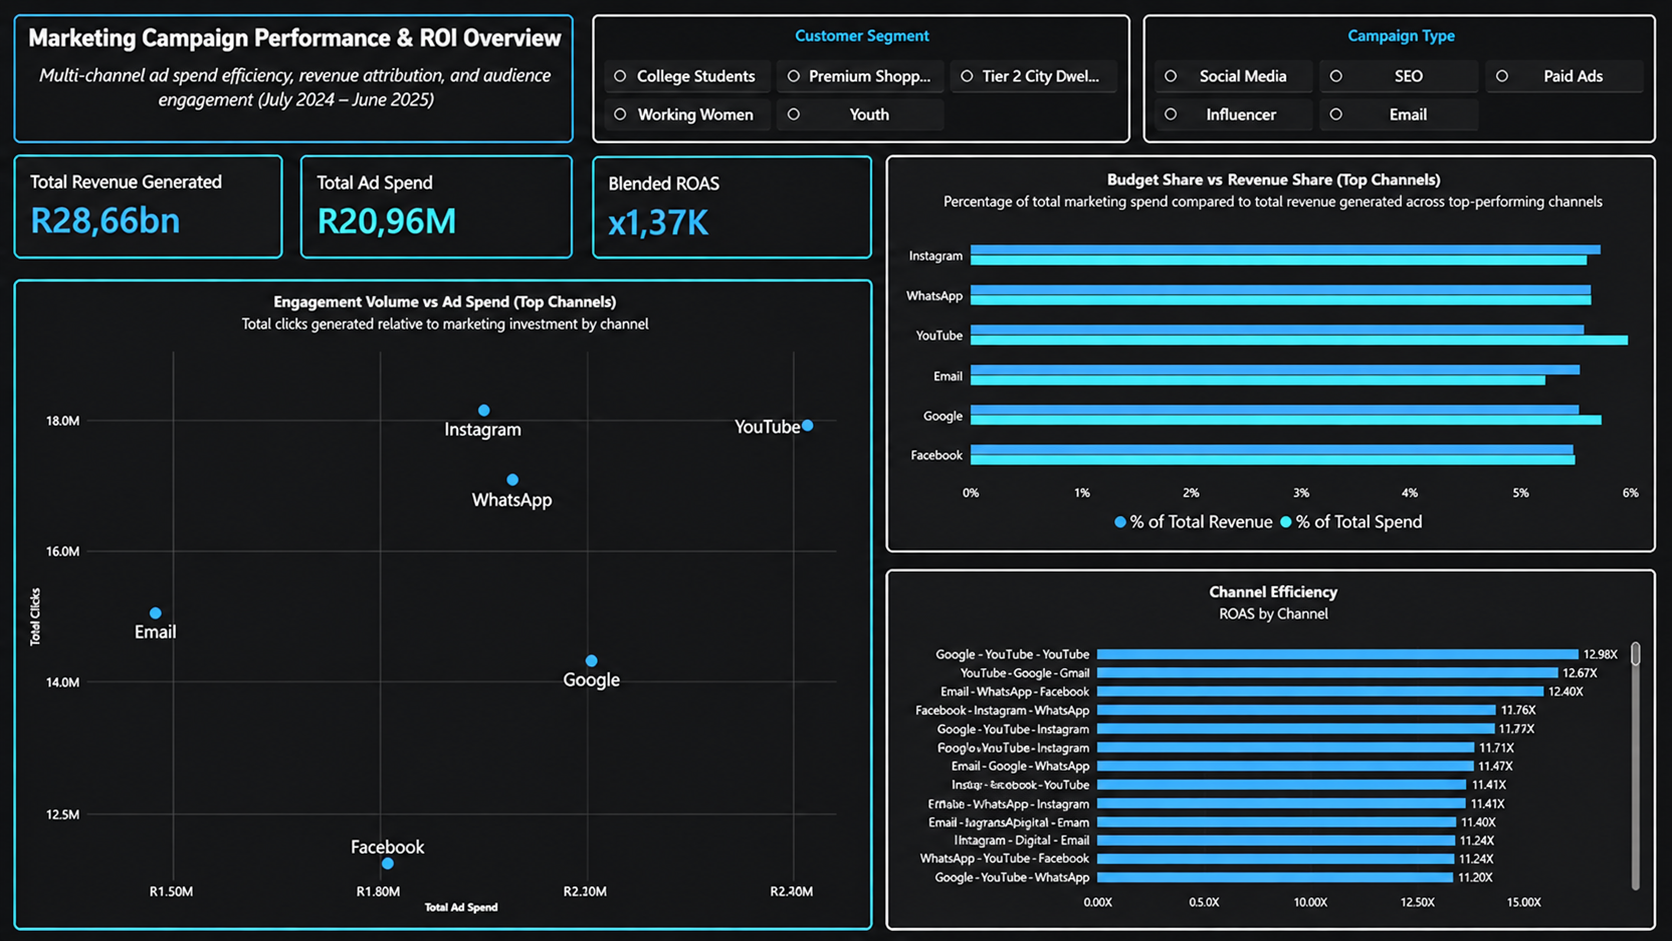

This screenshot's page, from the dashboard's own definition file:
{"tool":"powerbi","page":{"name":"Page 1","canvas":[1920,1080],"ordinal":0},"visuals":[{"type":"cardVisual","fields":{"Data":["Query1.Total Dashboard Revenue"]},"box":[16.4,178.2,309.1,118.2],"z":0},{"type":"advancedSlicerVisual","title":"Campaign Type","fields":{"Values":["Query1.campaign_type"]},"box":[1325,18.3,575,148.3],"z":1000},{"type":"cardVisual","fields":{"Data":["Query1.Total Ad Spend"]},"box":[345.5,180,312.7,116.4],"z":2000},{"type":"cardVisual","fields":{"Data":["Query1.Blended ROAS"]},"box":[680,181.8,321.8,116.4],"z":3000},{"type":"advancedSlicerVisual","title":"Customer Segment","fields":{"Values":["Query1.customer_segment"]},"box":[16.7,16.7,616.7,147.5],"z":4000},{"type":"clusteredBarChart","title":"Channel Efficiency","fields":{"Category":["Query1.channel_used"],"Y":["Query1.Blended ROAS"]},"box":[1016.4,652.7,883.6,414.5],"z":5000},{"type":"clusteredBarChart","title":"Budget Share vs. Revenue Share (Top Channels)","fields":{"Category":["Query1.channel_used"],"Y":["Query1.% of Total Revenue","Query1.% of Total Spend"]},"box":[1016.4,180,883.6,454.5],"z":6000},{"type":"scatterChart","title":"Engagement Volume vs. Ad Spend (Top Channels)","fields":{"Category":["Query1.channel_used"],"X":["Query1.Total Ad Spend"],"Y":["Query1.Total Clicks"]},"box":[16.4,321.8,985.5,745.5],"z":7000},{"type":"textbox","title":"Marketing Campaign Performance & ROI Overview","box":[658.3,18.3,641.7,147.5],"z":8000}]}

Visuals, with their boxes in screenshot pixels (x1, y1, x2, y2), scaled from the page's 1920x1080 canvas onto the 1672x941 screenshot:
cardVisual - Query1.Total Dashboard Revenue: 14:155:283:258
"Campaign Type" advancedSlicerVisual: 1154:16:1655:145
cardVisual - Query1.Total Ad Spend: 301:157:573:258
cardVisual - Query1.Blended ROAS: 592:158:872:260
"Customer Segment" advancedSlicerVisual: 15:15:552:143
"Channel Efficiency" clusteredBarChart: 885:569:1655:930
"Budget Share vs. Revenue Share (Top Channels)" clusteredBarChart: 885:157:1655:553
"Engagement Volume vs. Ad Spend (Top Channels)" scatterChart: 14:280:872:930
"Marketing Campaign Performance & ROI Overview" textbox: 573:16:1132:144
